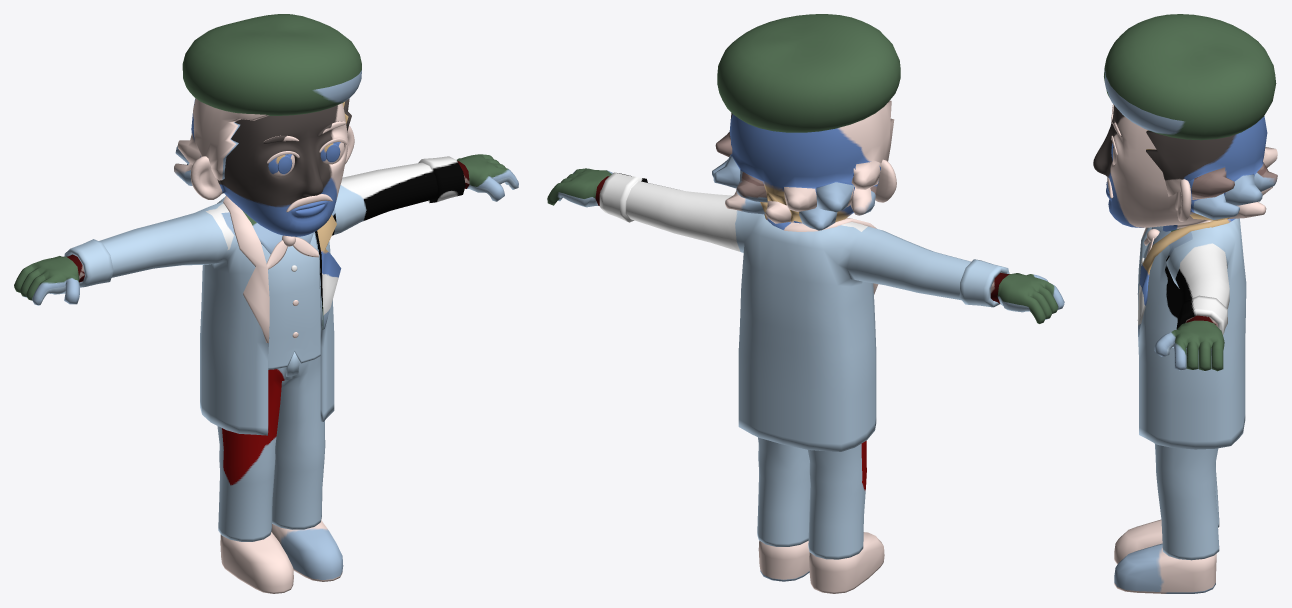
File: 캐릭터화가_03.fbx
The picture shows the model from 3 angles, left to right: view 1: azimuth 30°, elevation 25°; view 2: azimuth 150°, elevation 25°; view 3: azimuth 270°, elevation 25°; orthographic projection. The views are drawn at different scales.
Visible parts, largest first — view 1: Suit, Body, Hat, Pants, Tshirt, Shoes, Hair, Eye; view 2: Suit, Hat, Hair, Pants, Body, Shoes; view 3: Suit, Hat, Body, Hair, Pants, Shoes, Tshirt.
Part boxes in pixels (box(x1,y1,x2,y2)): Suit: box(64, 156, 465, 435); Body: box(14, 103, 518, 305); Hat: box(182, 14, 361, 115); Pants: box(217, 352, 325, 541); Tshirt: box(242, 210, 320, 369); Shoes: box(220, 520, 343, 593); Hair: box(174, 98, 351, 185); Eye: box(268, 142, 344, 176); Suit: box(599, 172, 1009, 451); Hat: box(717, 14, 900, 132); Hair: box(712, 100, 894, 230); Pants: box(757, 437, 866, 559); Body: box(547, 159, 1064, 323); Shoes: box(758, 532, 884, 593); Suit: box(1137, 218, 1246, 449); Hat: box(1104, 14, 1276, 140); Body: box(1093, 104, 1224, 371); Hair: box(1146, 116, 1277, 220); Pants: box(1154, 443, 1219, 560); Shoes: box(1114, 519, 1216, 593); Tshirt: box(1138, 226, 1180, 293).
Size of the model in its own units: 438 by 457 by 142.
